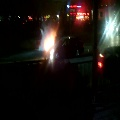fire: (44, 31, 56, 52)
